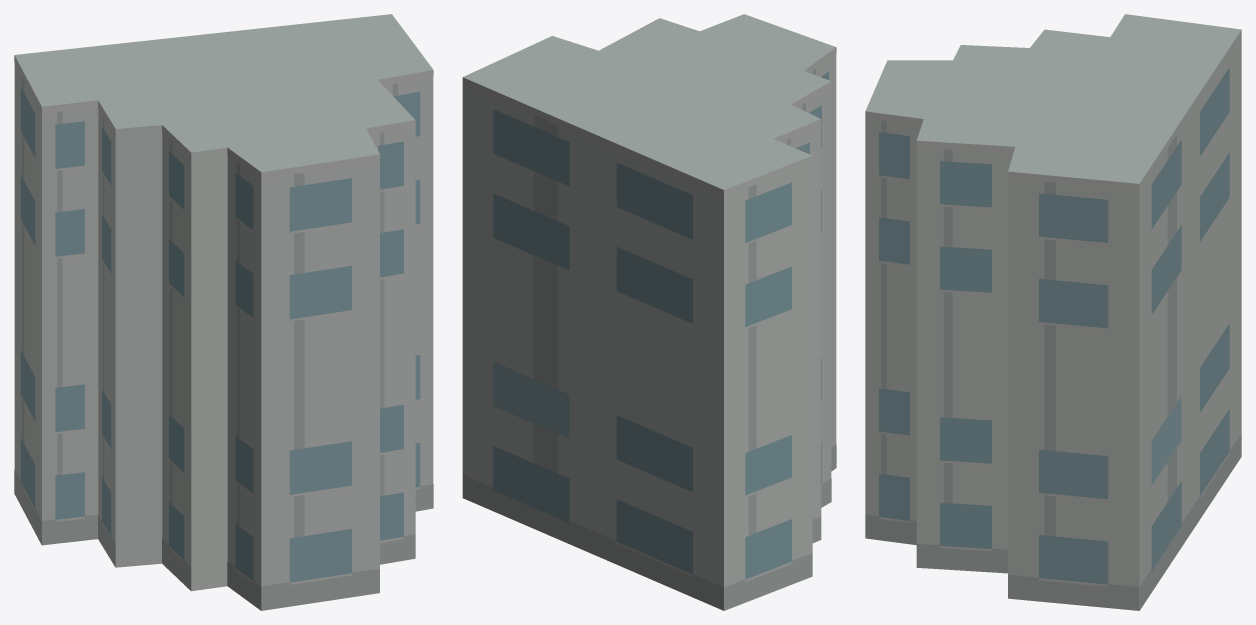
Rendered from residential-ad8acf05-d877-4be3-bb2f-6281eb14d75d.glb.
3 renders of one model, left to right at view 1: azimuth 30°, elevation 25°; view 2: azimuth 150°, elevation 25°; view 3: azimuth 270°, elevation 25°, orthographic. The views are drawn at different scales.
Visible parts, largest first — view 1: residential-ad8acf05-d877-4be3-bb2f-6281eb14d75d.tmp; view 2: residential-ad8acf05-d877-4be3-bb2f-6281eb14d75d.tmp; view 3: residential-ad8acf05-d877-4be3-bb2f-6281eb14d75d.tmp.
Part boxes in pixels (x1=…): residential-ad8acf05-d877-4be3-bb2f-6281eb14d75d.tmp: x1=14, y1=14, x2=433, y2=610; residential-ad8acf05-d877-4be3-bb2f-6281eb14d75d.tmp: x1=462, y1=14, x2=836, y2=610; residential-ad8acf05-d877-4be3-bb2f-6281eb14d75d.tmp: x1=865, y1=14, x2=1241, y2=610.
Size of the model in its own units: 13.02 by 15.25 by 12.19.
